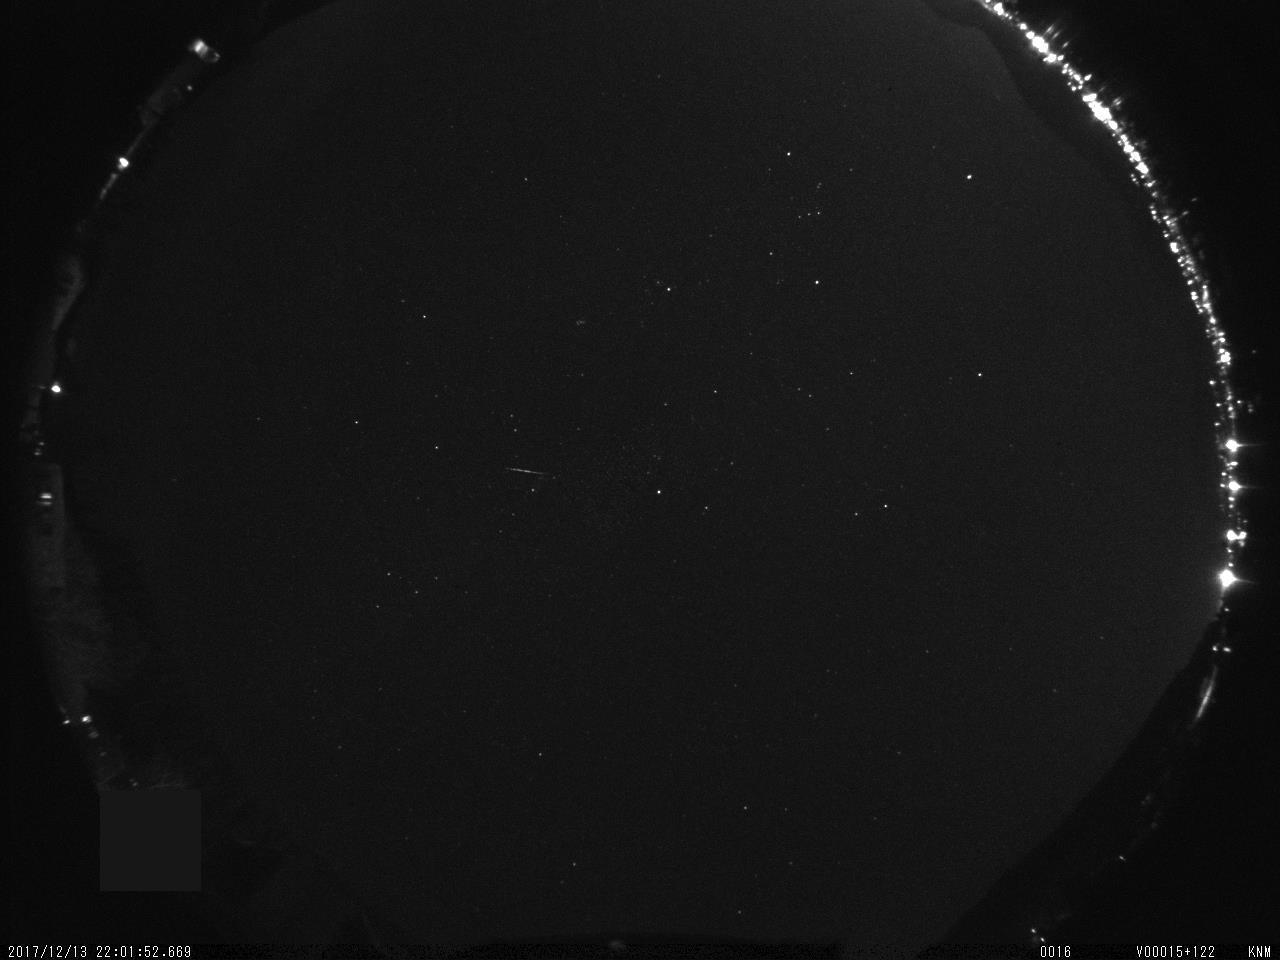Meteor: (502, 462, 552, 477)
